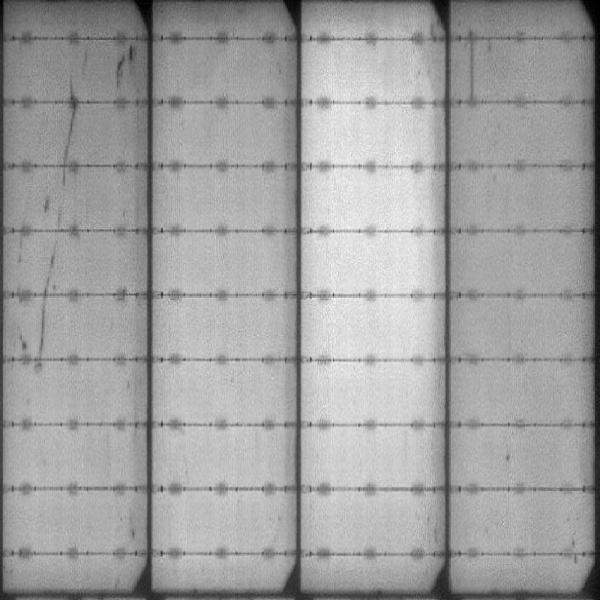scratch: (62, 84, 83, 182), (109, 44, 138, 90), (41, 237, 58, 294), (35, 296, 49, 359), (464, 41, 478, 103)
